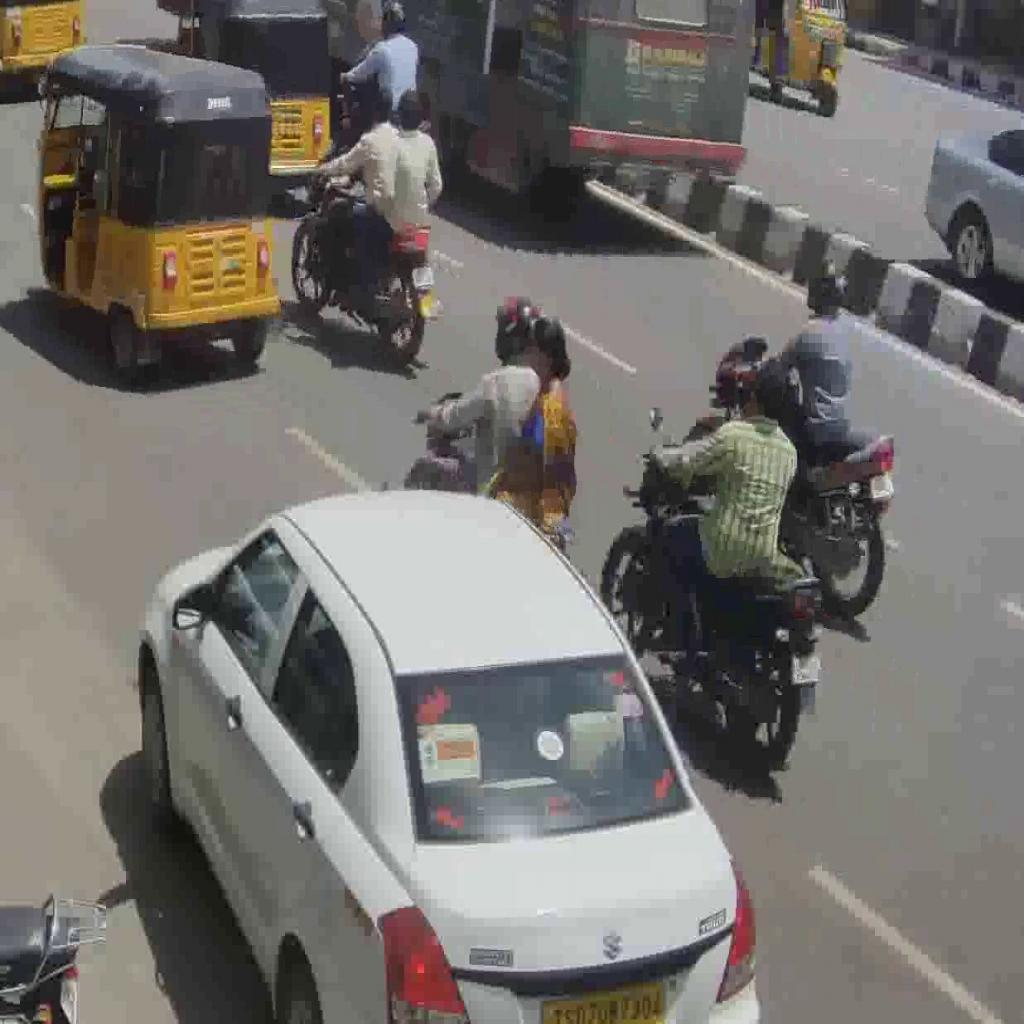helmet: (600, 439, 824, 779), (686, 336, 897, 615), (290, 145, 443, 363)
